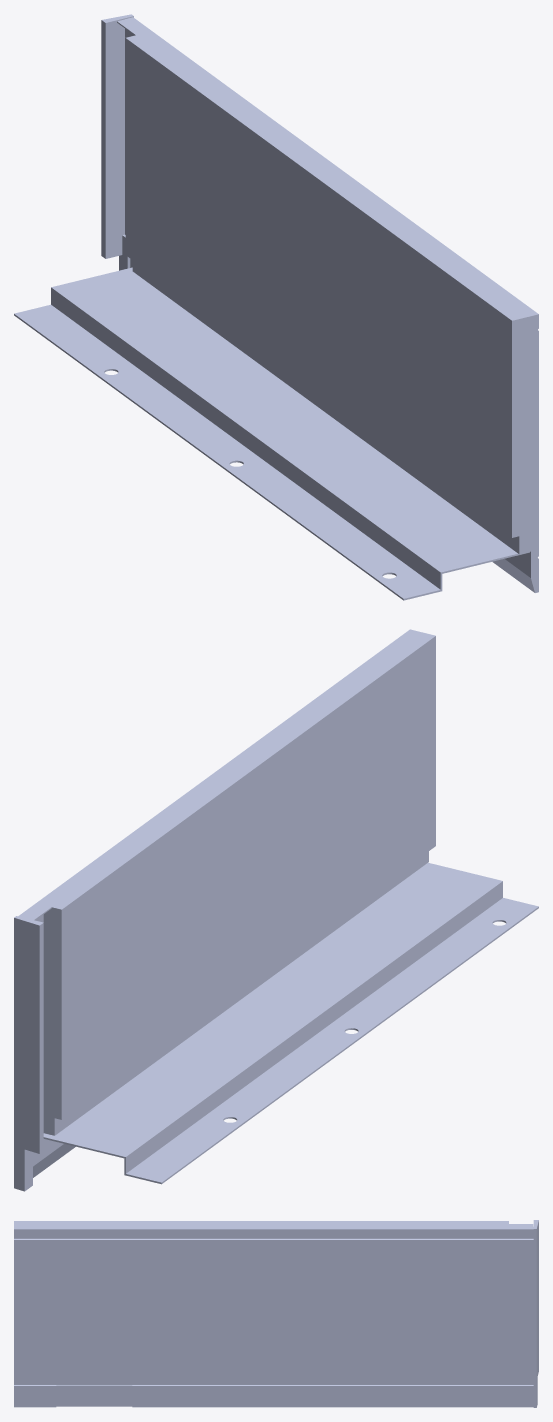
File: lg-kava-K350-m.glb
3 views of the same model, one above another, from view 1: azimuth 30°, elevation 25°; view 2: azimuth 150°, elevation 25°; view 3: azimuth 270°, elevation 25° (orthographic). The views are drawn at different scales.
Visible parts, largest first — view 1: 42534648; view 2: 42534648; view 3: 42534648.
Part boxes in pixels (box(x1,y1,x2,y2)): 42534648: box(14, 14, 538, 600); 42534648: box(14, 629, 538, 1191); 42534648: box(14, 1220, 538, 1407).
Size of the model in its own units: 0.0653 by 0.1292 by 0.3435.
